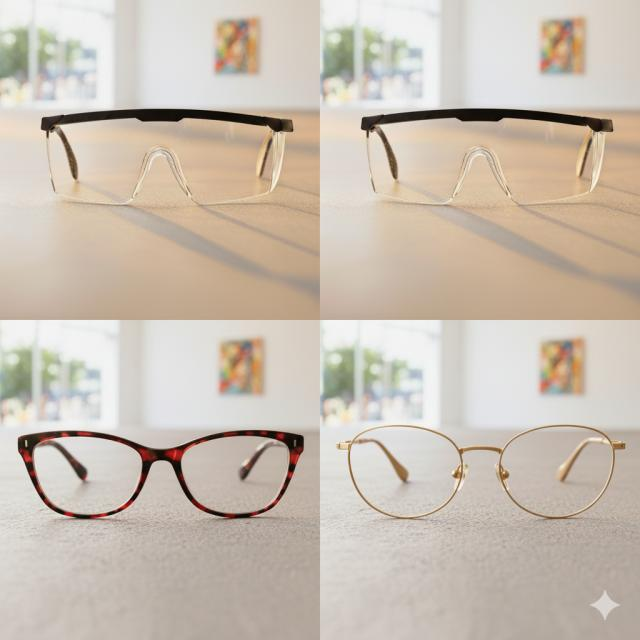oculos-epi: (361, 108, 612, 204), (41, 109, 292, 204)
sem_oculos: (337, 425, 625, 518), (18, 430, 303, 518)
